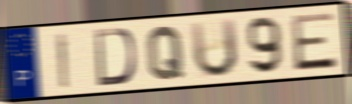9: (245, 15, 284, 76)
D: (93, 27, 138, 88)
E: (289, 10, 339, 73)
I: (54, 31, 70, 91)
Q: (145, 24, 186, 82)
U: (188, 16, 240, 80)
